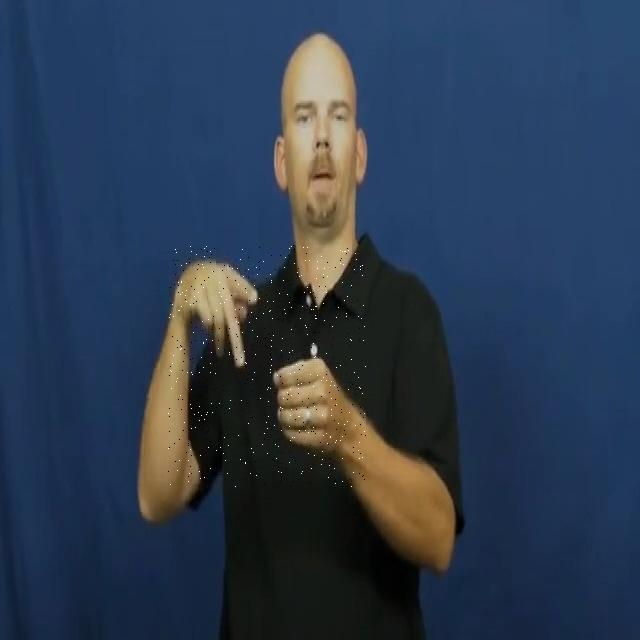soda: (168, 245, 366, 488)
